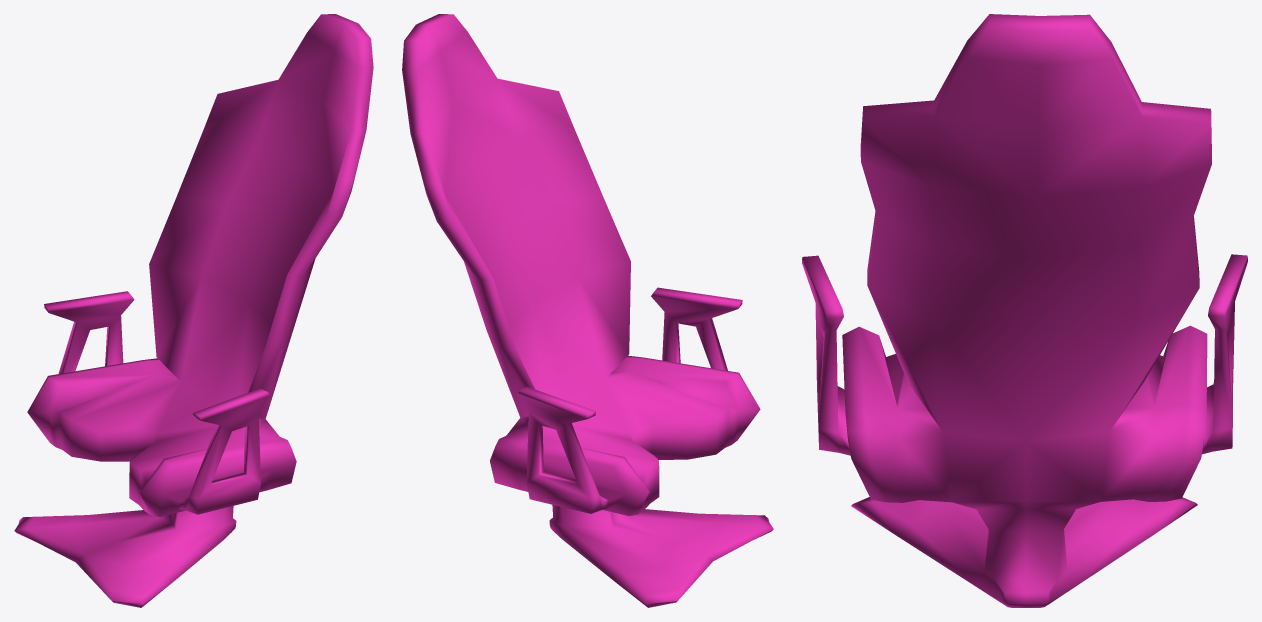
The model's file is ChairGaming.fbx.
The picture shows the model from 3 angles, left to right: view 1: azimuth 30°, elevation 25°; view 2: azimuth 150°, elevation 25°; view 3: azimuth 270°, elevation 25°; orthographic projection. The views are drawn at different scales.
Parts seen in each view (by area): view 1: ChairGaming; view 2: ChairGaming; view 3: ChairGaming.
Part boxes in pixels (<box>): ChairGaming: <box>14,14,373,607</box>; ChairGaming: <box>402,14,773,607</box>; ChairGaming: <box>802,14,1247,607</box>.
Bounding box in the file's own units: 193 × 288 × 171.
